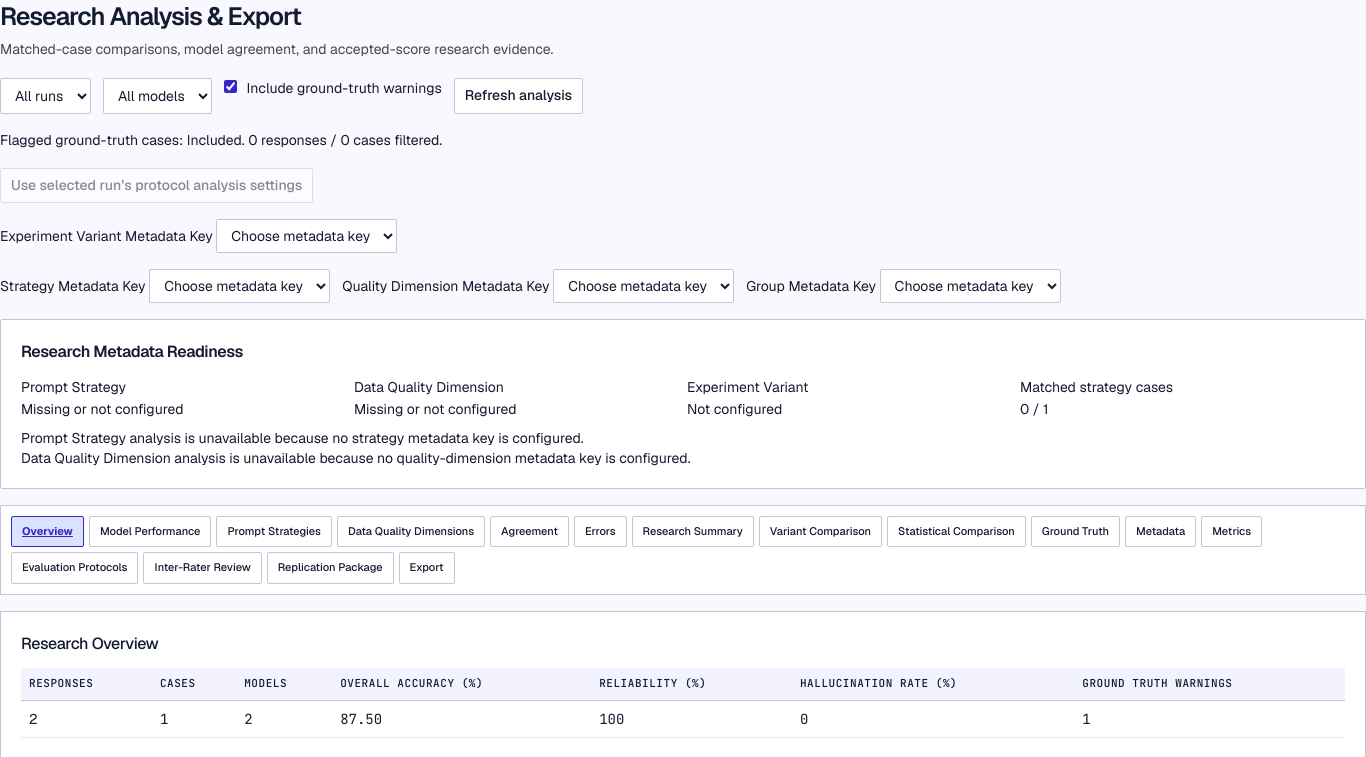
Test: export requires run prevents duplicates and handles failure retry
The width and height of the screenshot is (1366, 757).
expect the text "87.50" is shown: met, box x1=332 y1=700 x2=591 y2=738
Click the button "Export" at (427, 568), box x1=399 y1=552 x2=454 y2=584
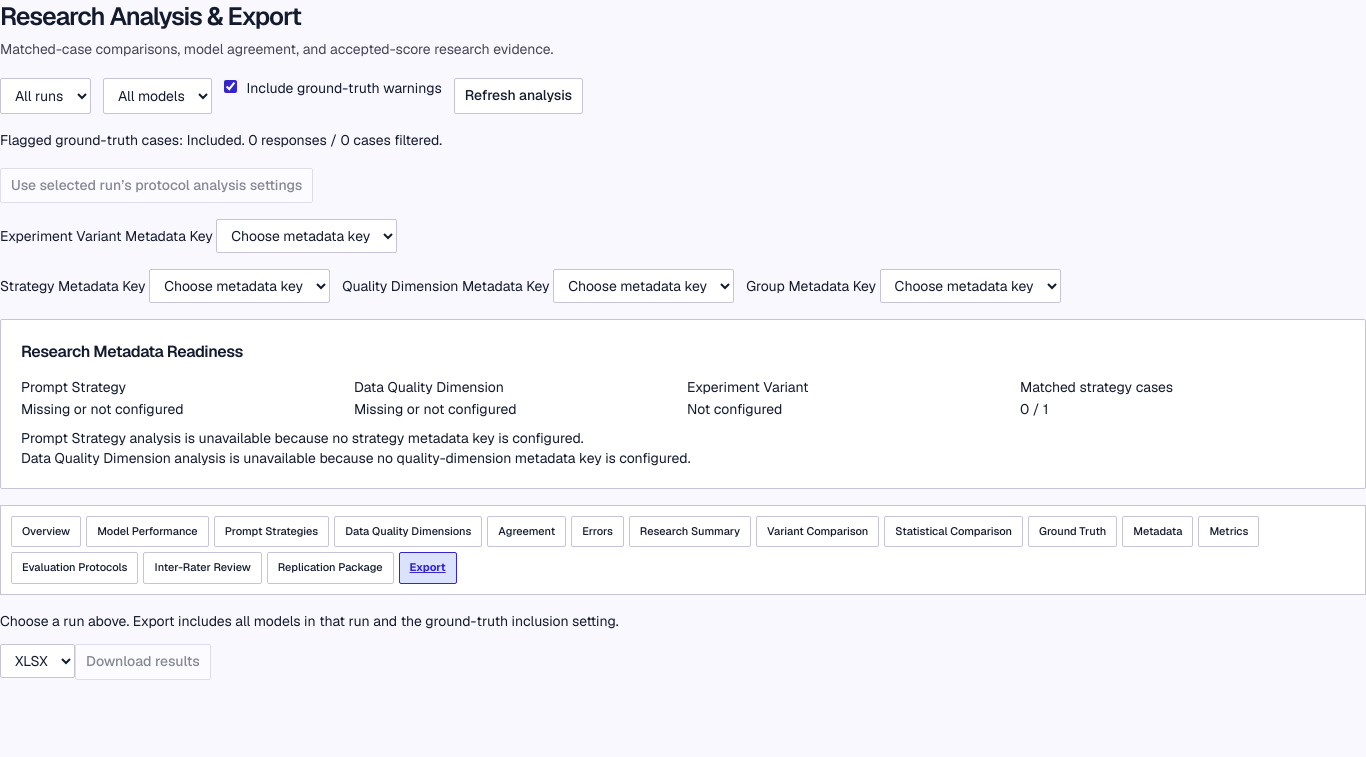
expect the button "Download results" is disabled: met, box x1=75 y1=644 x2=211 y2=680
Select "Run 1" in the dropdown named "Research run" at (46, 96), box x1=0 y1=78 x2=91 y2=114
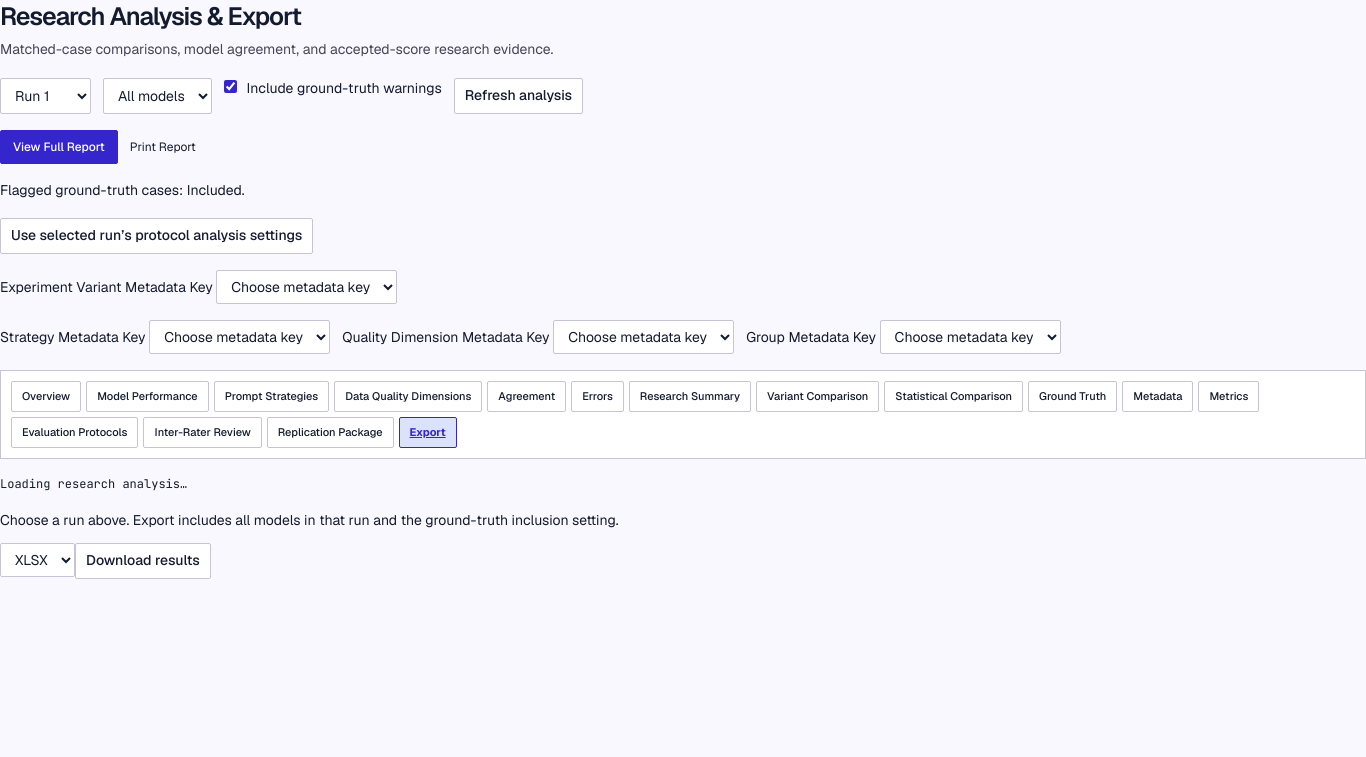
Click the button "Download results" at (143, 561), box x1=75 y1=543 x2=211 y2=579
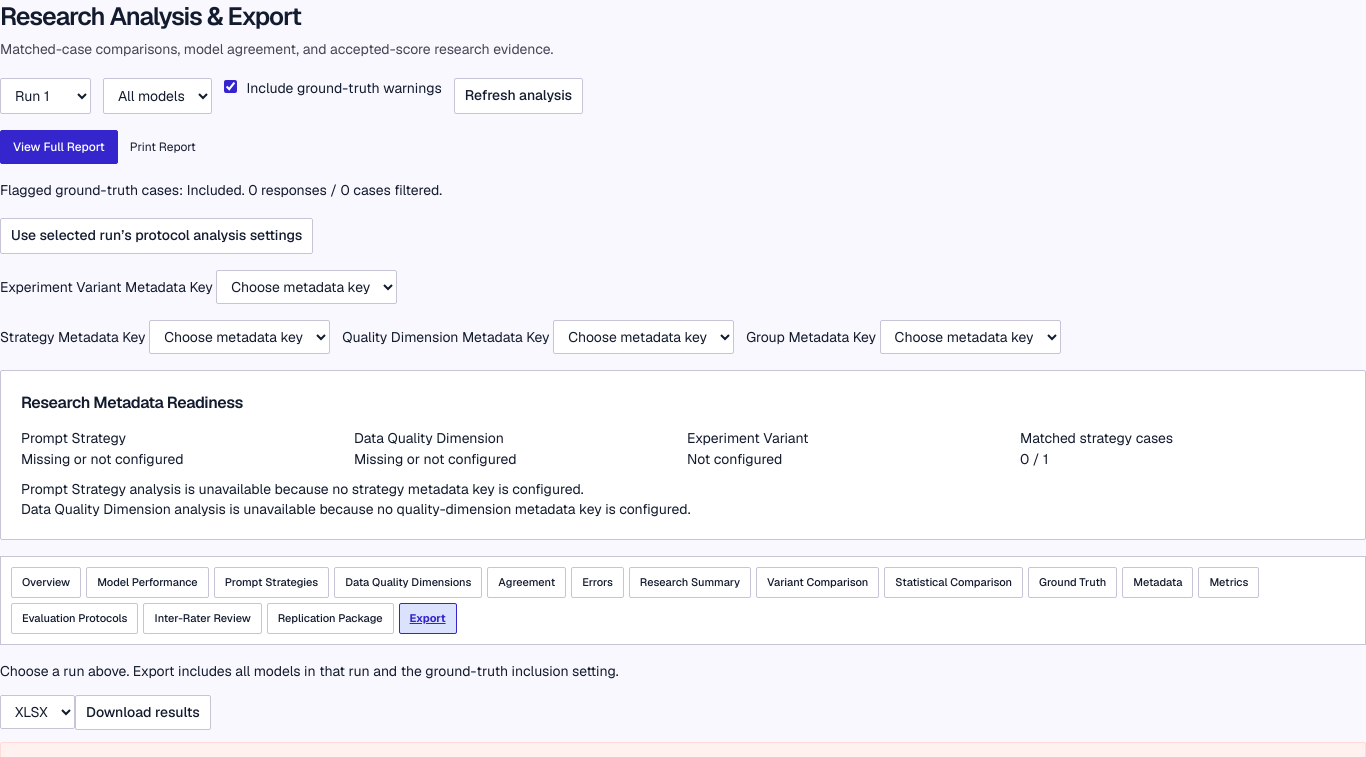
Click the button "Download results" at (143, 713), box x1=75 y1=695 x2=211 y2=730
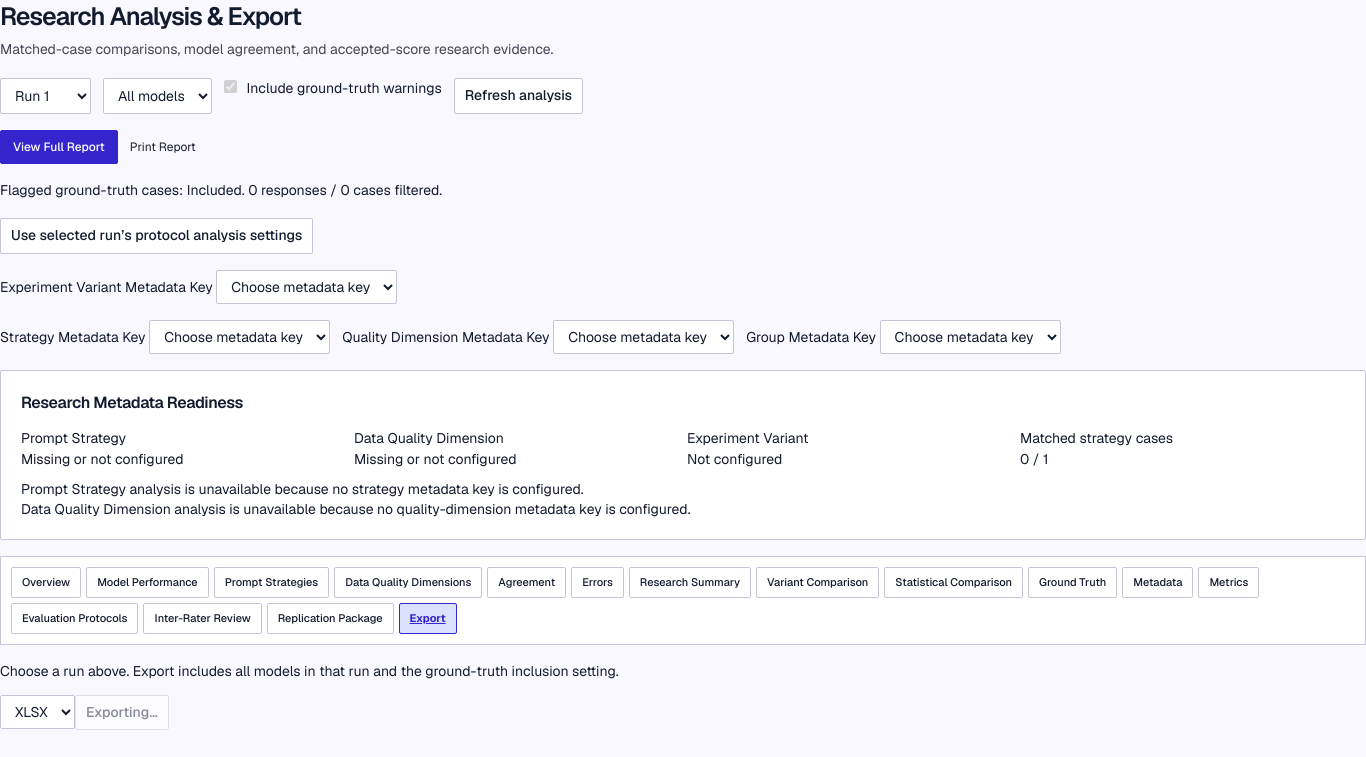
expect the button "Exporting…" is disabled: met, box x1=75 y1=695 x2=169 y2=730
